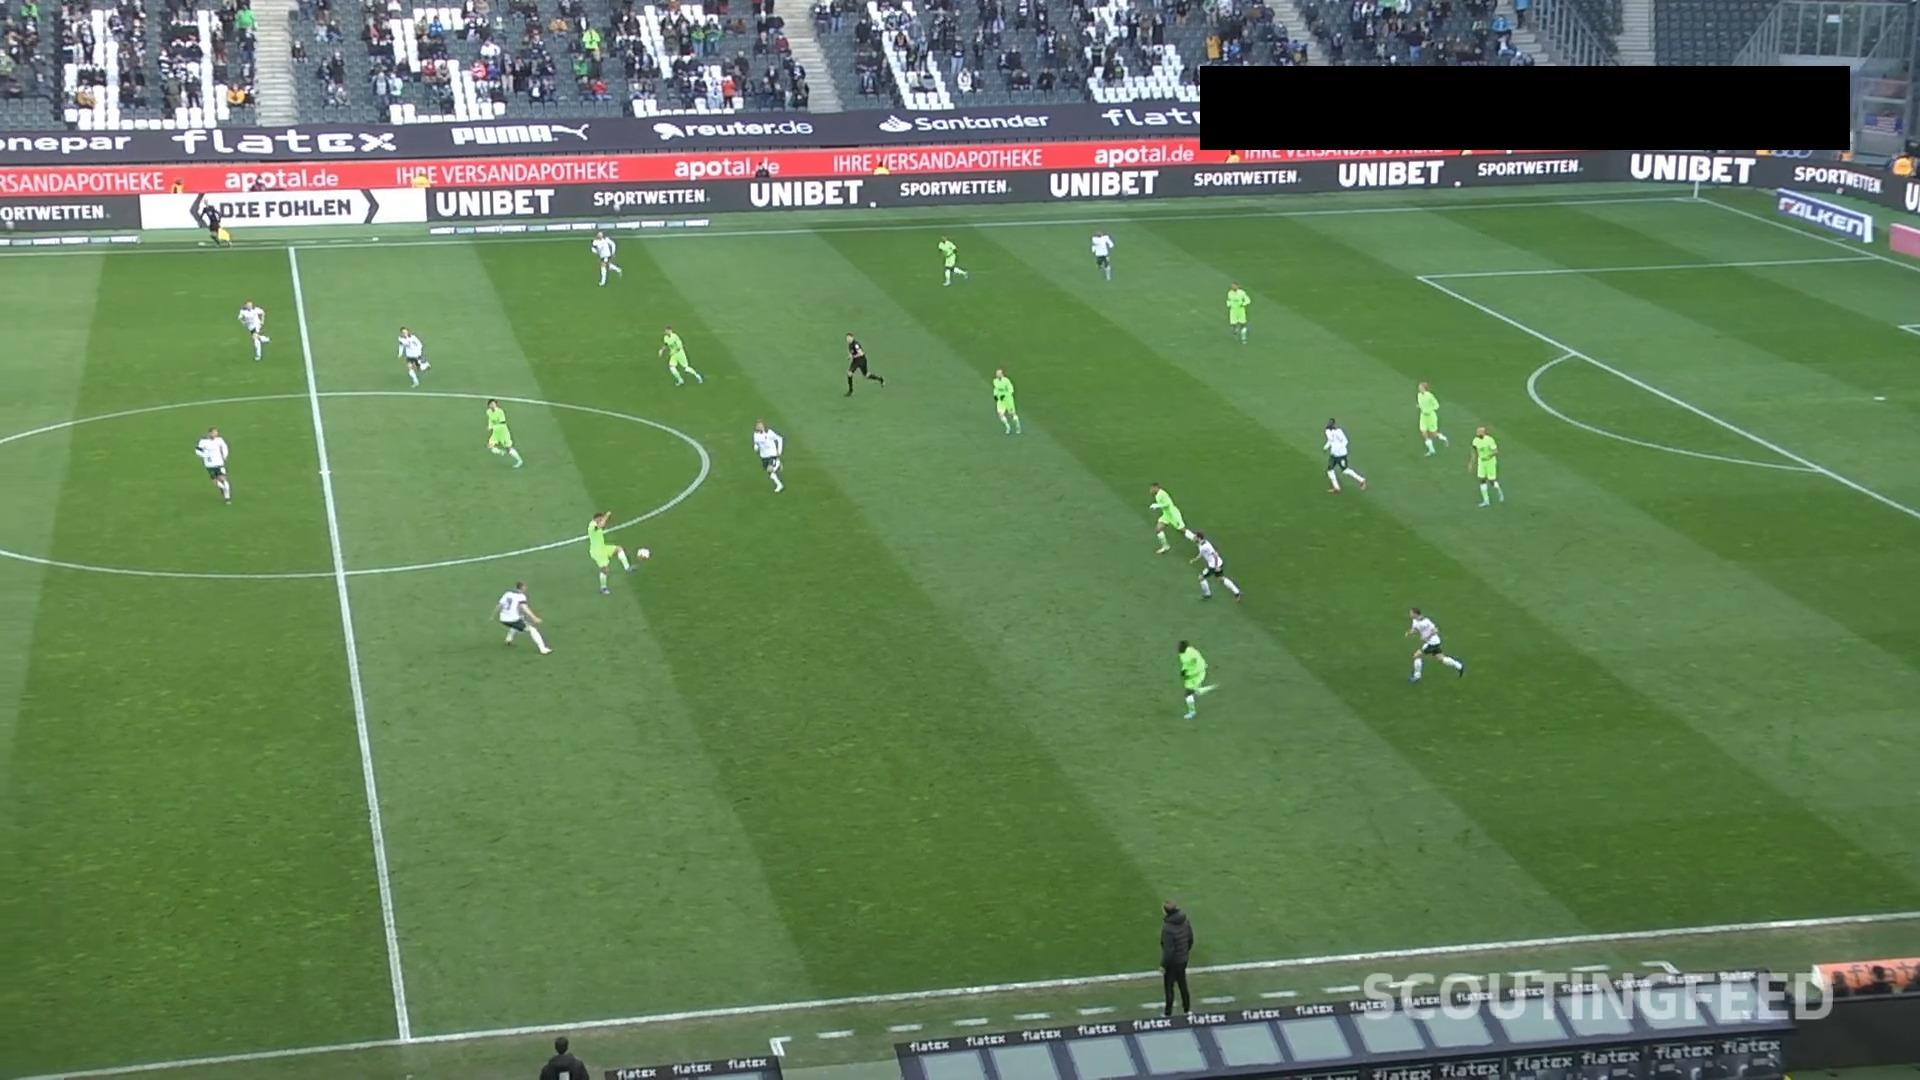ball: (636, 547, 649, 559)
coach: (1157, 897, 1193, 1017)
player: (1403, 606, 1464, 682), (493, 580, 552, 654), (586, 509, 636, 595), (1187, 530, 1241, 601), (1147, 481, 1198, 554), (1321, 416, 1367, 493), (1467, 425, 1503, 507), (656, 325, 704, 386), (194, 425, 231, 504), (483, 397, 522, 468), (1175, 638, 1209, 719), (1415, 379, 1448, 457), (751, 418, 784, 492), (395, 325, 430, 387), (990, 367, 1021, 435), (236, 299, 269, 361), (589, 228, 622, 286), (1224, 280, 1250, 344), (936, 235, 967, 286), (1089, 229, 1114, 281)
referee: (842, 332, 883, 397), (192, 194, 232, 249), (538, 1036, 589, 1078)
